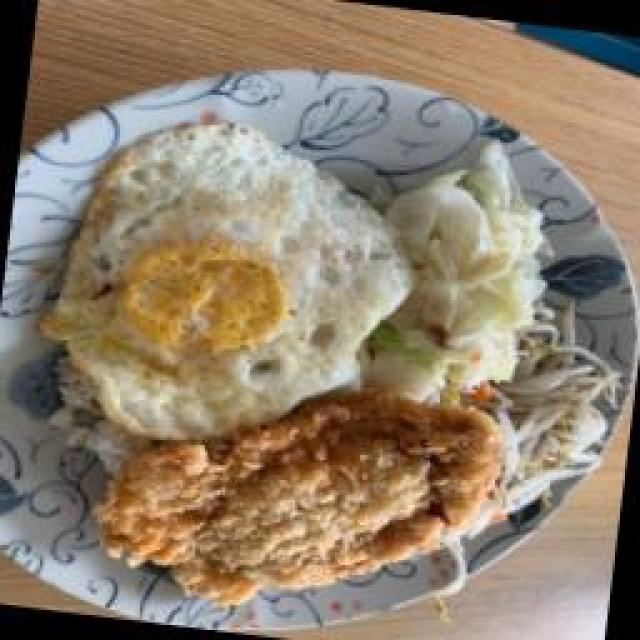Wet Waste: (25, 110, 433, 460), (85, 365, 497, 630), (355, 135, 570, 423), (452, 287, 632, 535)
